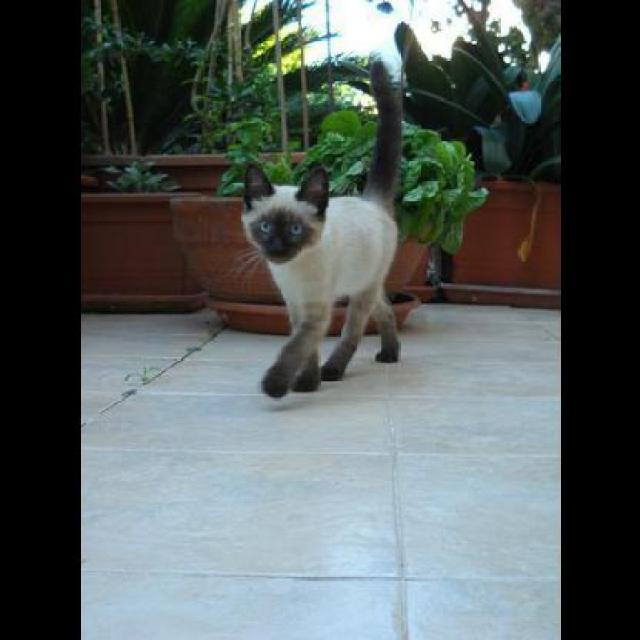unauthorized: (228, 54, 406, 398)
